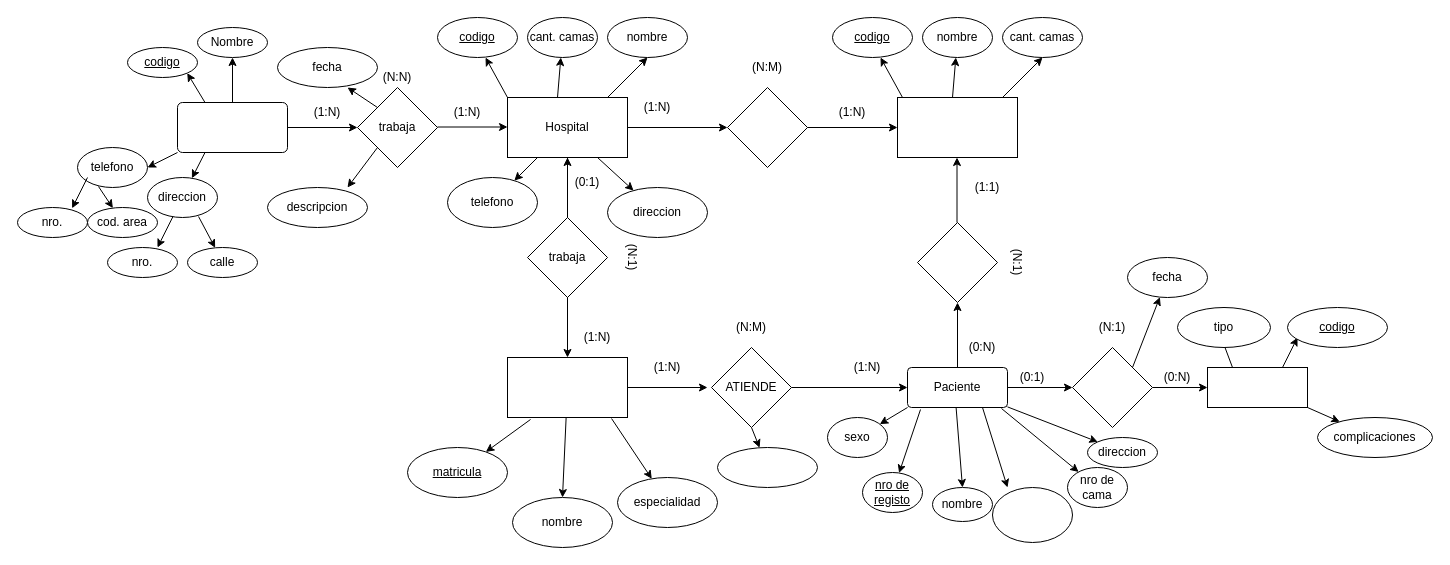
Some shapes in this 1450 by 565 pixel diagram are drawn without their labels. The shapes that lost their labels are listed below. From the top down, each one's box as (x1, y1, x2, y2) in pixels, then its label:
(176, 102, 288, 152): Laboratorio
(726, 86, 808, 168): tiene
(896, 96, 1018, 158): Sala
(916, 222, 998, 302): INTERNADO
(506, 356, 628, 418): profesional
(1072, 346, 1152, 428): realiza
(1206, 366, 1308, 408): Diagnostico
(716, 446, 818, 488): fecha de atencion
(992, 486, 1072, 542): fecha de nacimiento
